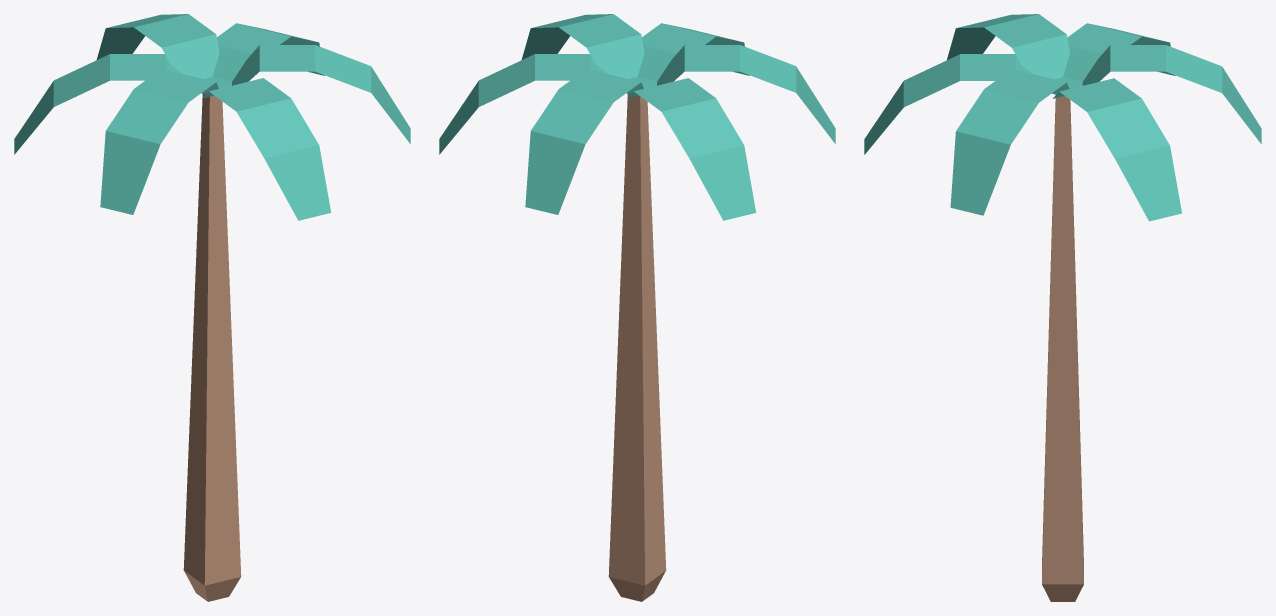
Rendered from tree_palm.glb.
3 renders of one model, left to right at view 1: azimuth 30°, elevation 25°; view 2: azimuth 150°, elevation 25°; view 3: azimuth 270°, elevation 25°, orthographic.
Visible parts, largest first — view 1: tree_palm; view 2: tree_palm; view 3: tree_palm.
Part boxes in pixels (x1,y1,x2,y2): tree_palm: (14, 14, 410, 601); tree_palm: (439, 14, 835, 601); tree_palm: (864, 14, 1261, 601).
Size of the model in its own units: 0.9355 by 1.51 by 1.01.
